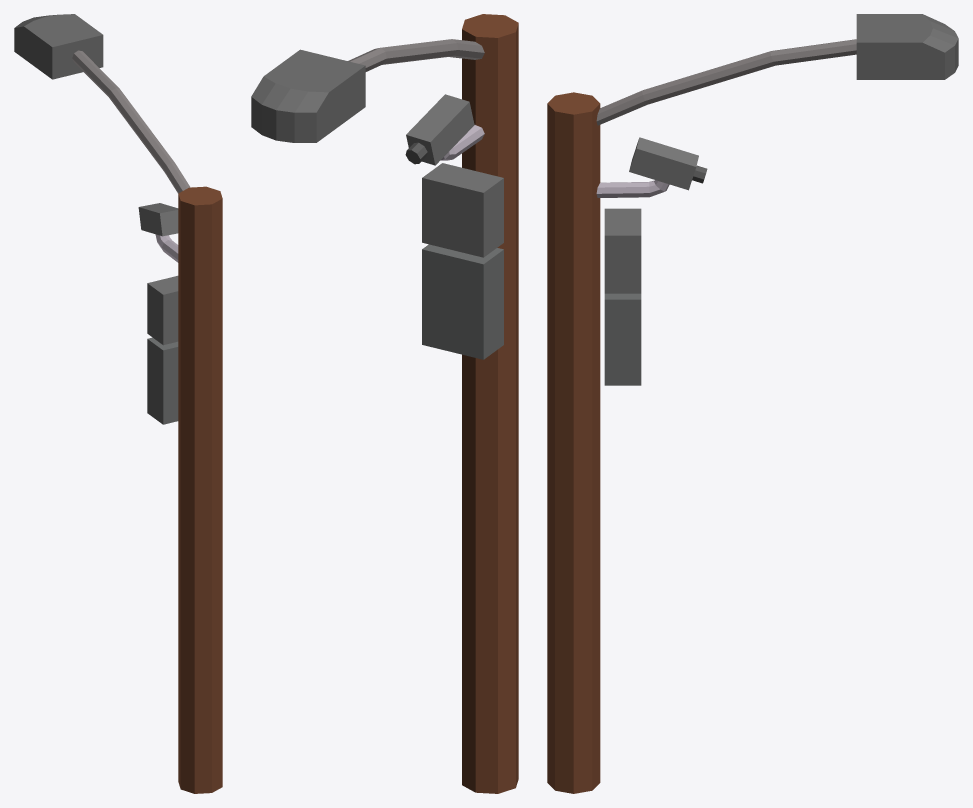
File: streetlamp.glb
3 views of the same model, side by side, from view 1: azimuth 30°, elevation 25°; view 2: azimuth 150°, elevation 25°; view 3: azimuth 270°, elevation 25° (orthographic). The views are drawn at different scales.
Visible parts, largest first — view 1: streetlamp, security-camera; view 2: streetlamp, security-camera; view 3: streetlamp, security-camera.
Boxes of the visible parts, x1=… form: streetlamp: x1=14, y1=14, x2=222, y2=793; security-camera: x1=138, y1=203, x2=178, y2=236; streetlamp: x1=251, y1=14, x2=518, y2=793; security-camera: x1=405, y1=94, x2=474, y2=165; streetlamp: x1=547, y1=14, x2=958, y2=793; security-camera: x1=629, y1=137, x2=707, y2=190.
Bounding box in the file's own units: 1.58 × 19.33 × 9.55.
